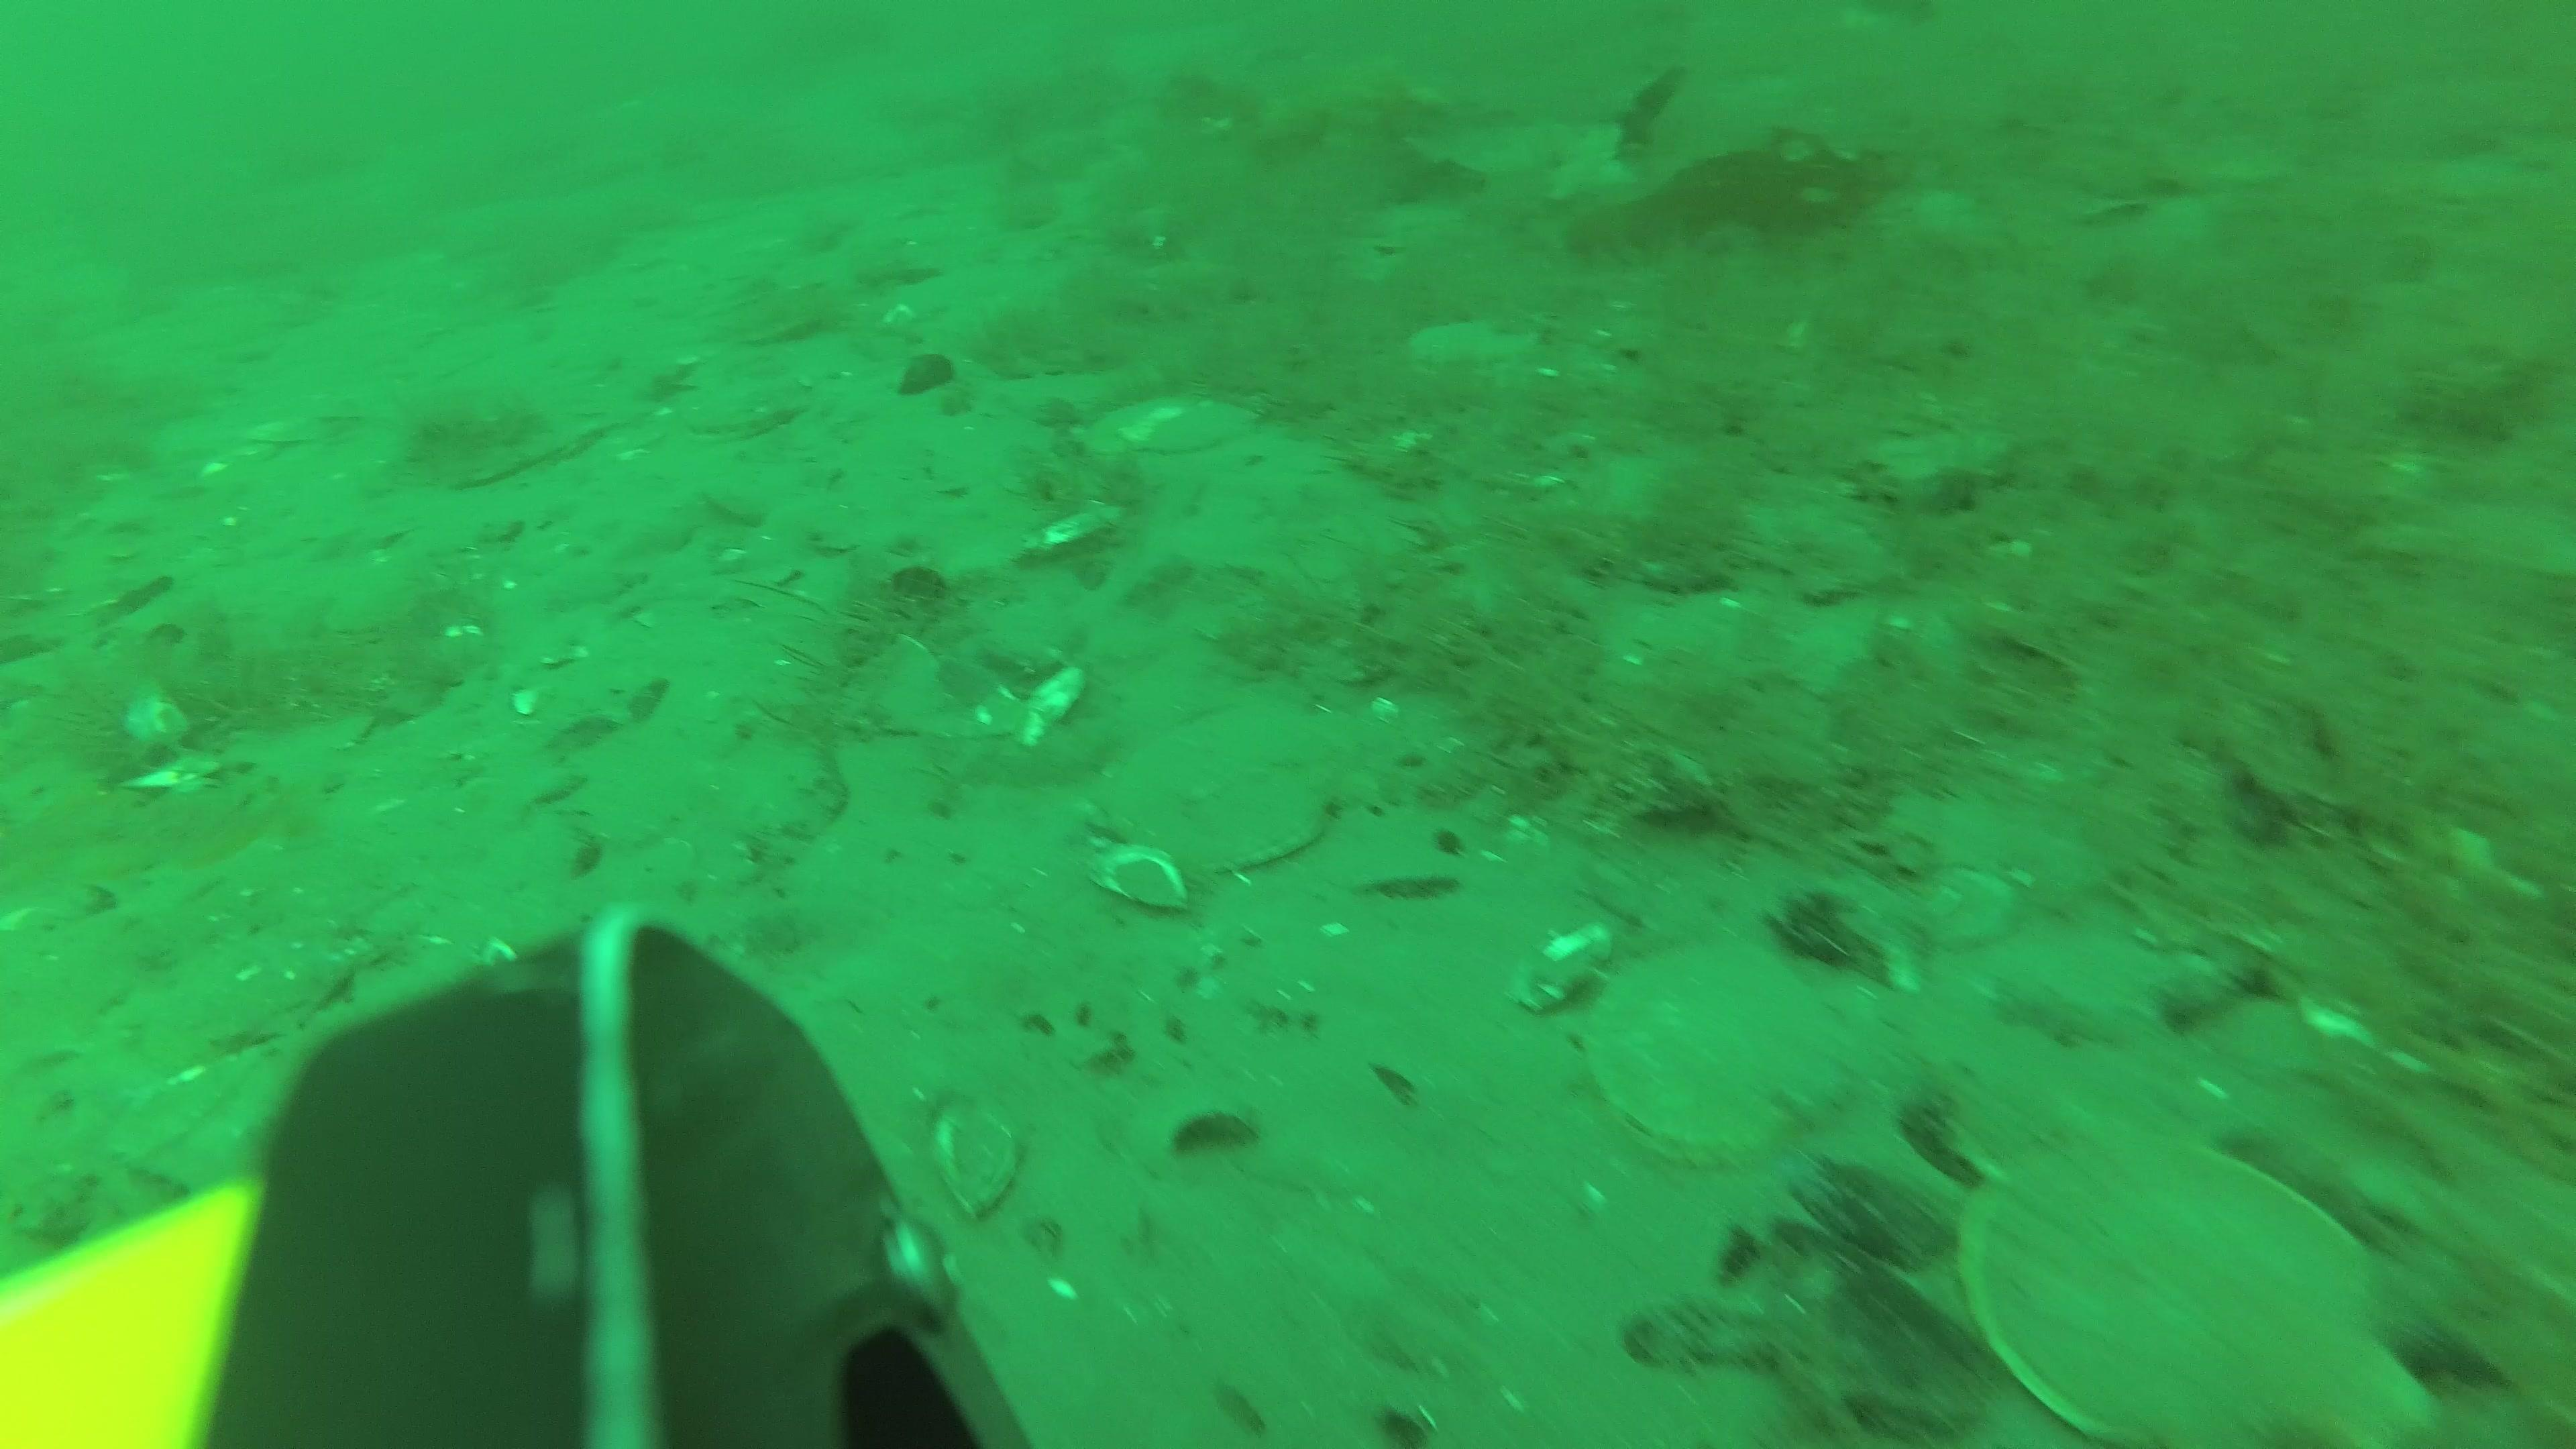scallop: (1962, 1132, 2433, 1449), (1587, 943, 1865, 1166), (1102, 709, 1382, 870), (1407, 317, 1539, 379), (685, 380, 809, 446), (1092, 395, 1194, 448), (1162, 400, 1254, 453)
